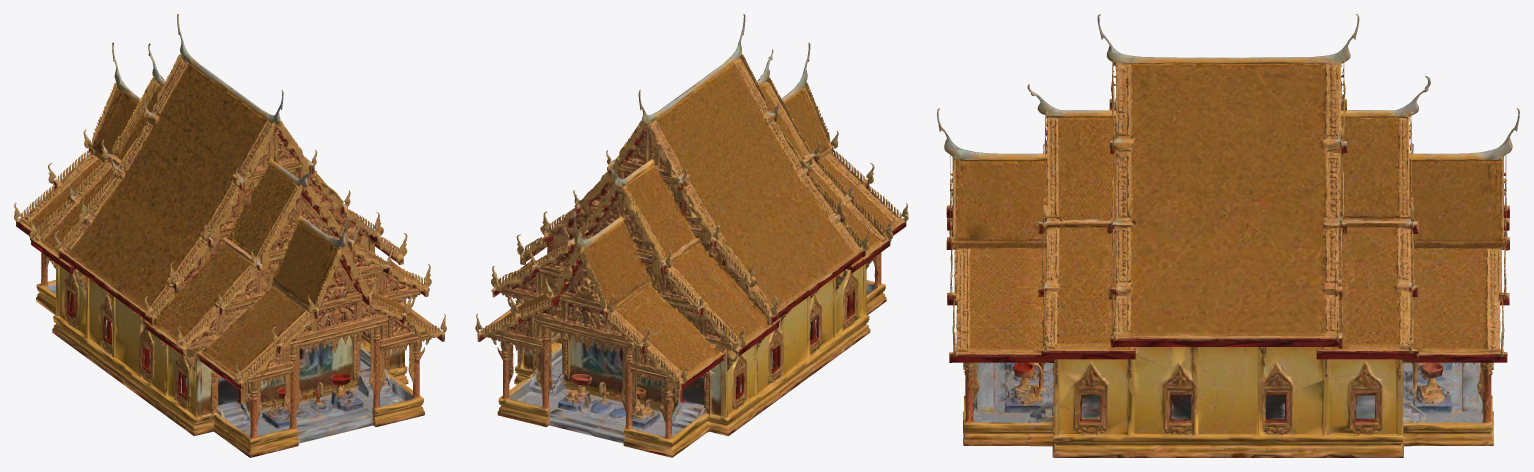
The model's file is wat-lai.glb.
3 views of the same model, side by side, from view 1: azimuth 30°, elevation 25°; view 2: azimuth 150°, elevation 25°; view 3: azimuth 270°, elevation 25° (orthographic). The views are drawn at different scales.
Bounding box in the file's own units: 1.22 × 1.36 × 1.89.
1 material, 1 textured.
